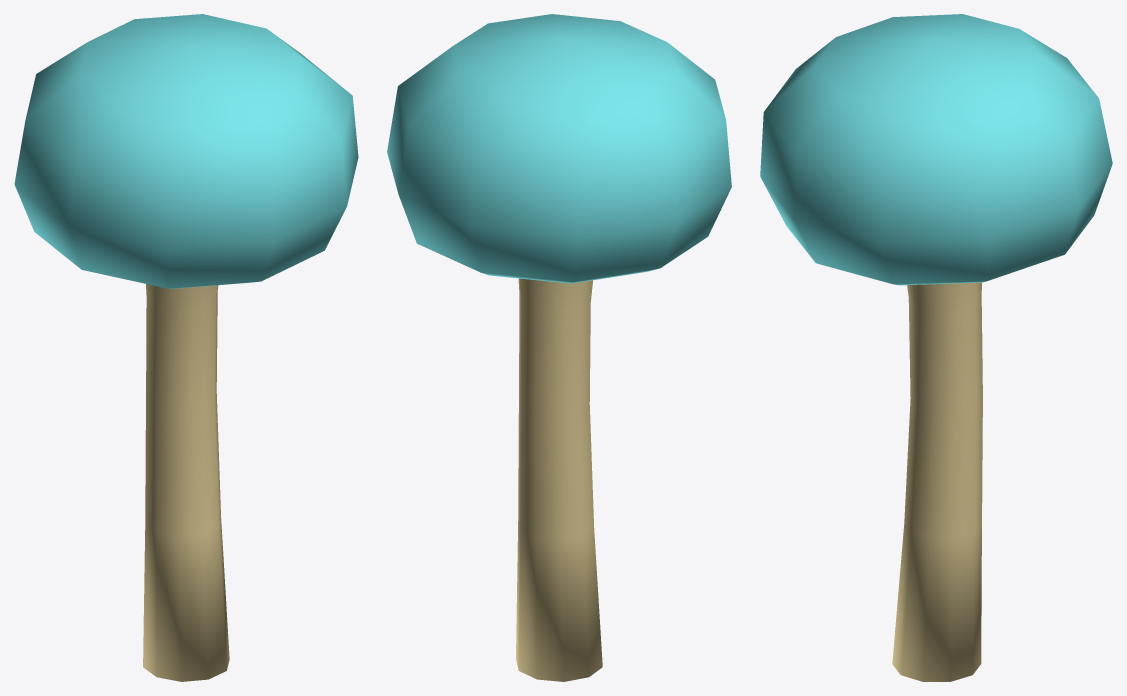
The model's file is Mushroom4_Bogdan.fbx.
3 views of the same model, side by side, from view 1: azimuth 30°, elevation 25°; view 2: azimuth 150°, elevation 25°; view 3: azimuth 270°, elevation 25° (orthographic).
Visible parts, largest first — view 1: Mushroom4; view 2: Mushroom4; view 3: Mushroom4.
Part boxes in pixels (<box>): Mushroom4: <box>14,14,358,681</box>; Mushroom4: <box>387,14,731,681</box>; Mushroom4: <box>760,14,1112,681</box>.
Size of the model in its own units: 76.6 by 156 by 80.47.
